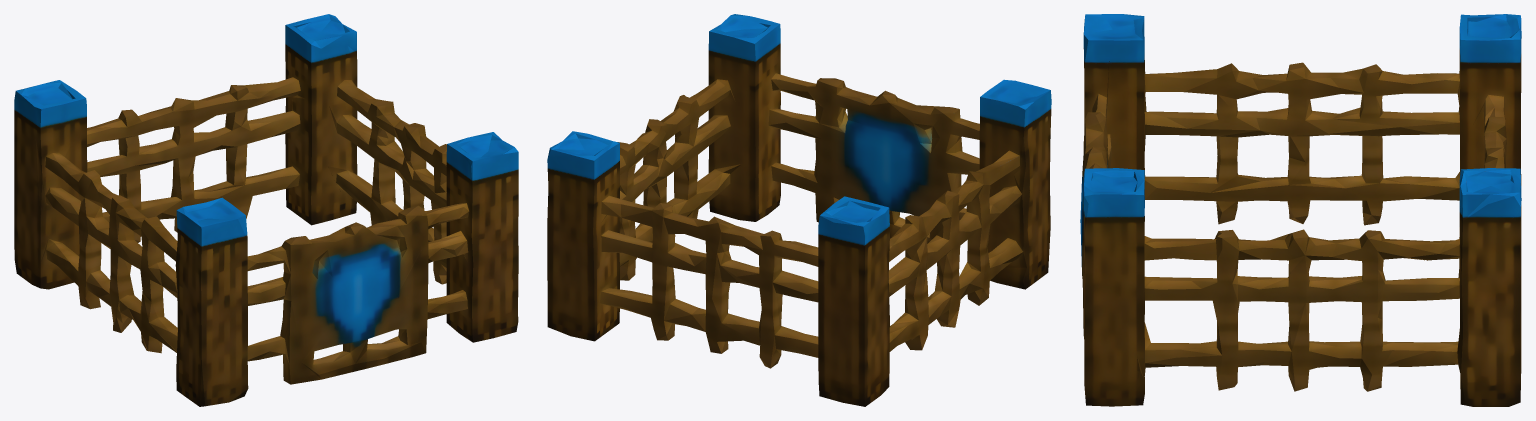
The model's file is spawn_pen_blue.glb.
3 views of the same model, side by side, from view 1: azimuth 30°, elevation 25°; view 2: azimuth 150°, elevation 25°; view 3: azimuth 270°, elevation 25° (orthographic). The views are drawn at different scales.
Parts seen in each view (by area): view 1: Mesh; view 2: Mesh; view 3: Mesh.
Boxes of the visible parts, x1,y1,x2,y2 form: Mesh: [14, 14, 518, 406]; Mesh: [547, 14, 1051, 406]; Mesh: [1080, 14, 1521, 406].
Bounding box in the file's own units: 1.85 × 1.02 × 1.9.
1 material, 1 textured.
